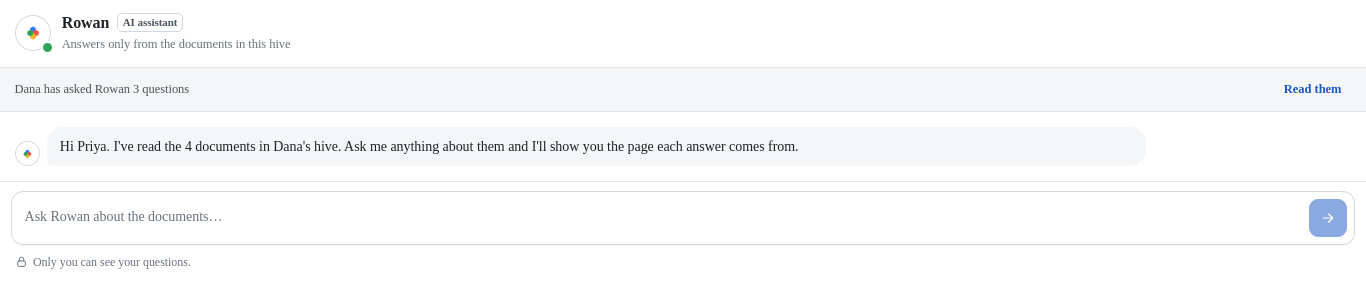
it: AskChat › staff view of the client's questions › offers the client's thread read-only, with no composer while reading
Check: the element with test id "ask-client-questions-row" shows "Dana has asked Rowan 3 questions", box [0, 68, 1365, 112]
Check: the text box named "Question for Rowan" is shown, box [25, 199, 1302, 237]
Click the button "Read them" at (1313, 89), box [1274, 75, 1352, 104]
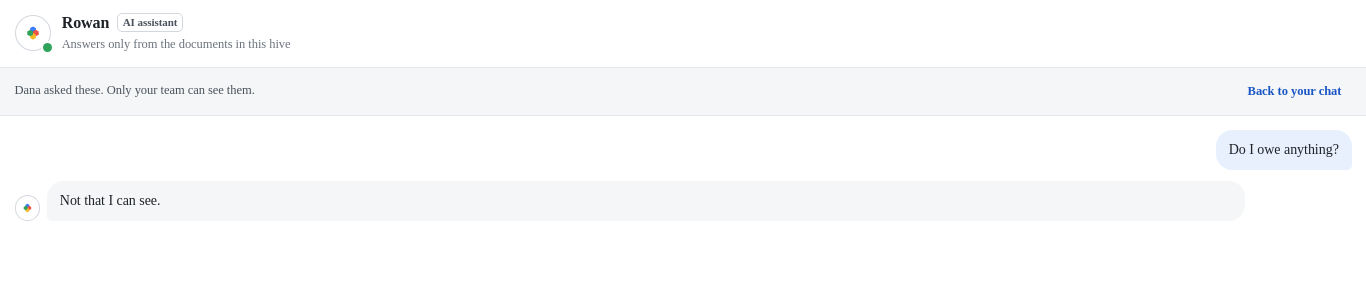
Check: the text with test id "ask-readonly-note" reads "Dana asked these. Only your team can see them.", box [14, 81, 255, 101]
Check: the text "Do I owe anything?" is shown, box [1216, 130, 1352, 170]
Click the button "Back to your chat" at (1294, 91), box [1238, 77, 1352, 106]
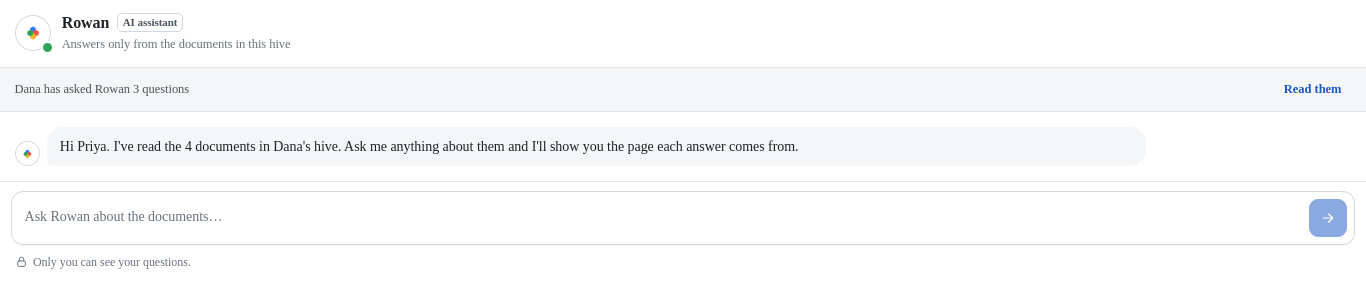
Check: the text box named "Question for Rowan" is shown, box [25, 199, 1302, 237]
